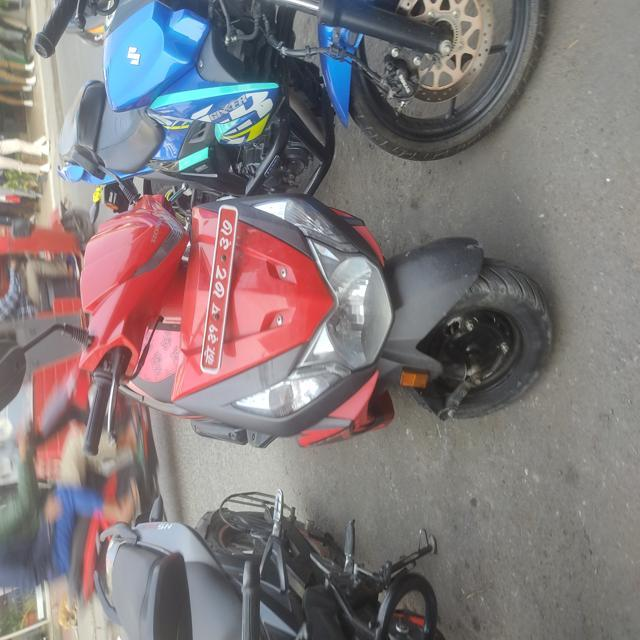license_plate: (149, 168, 271, 382)
